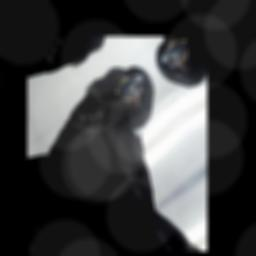Crow: (32, 47, 203, 251)
